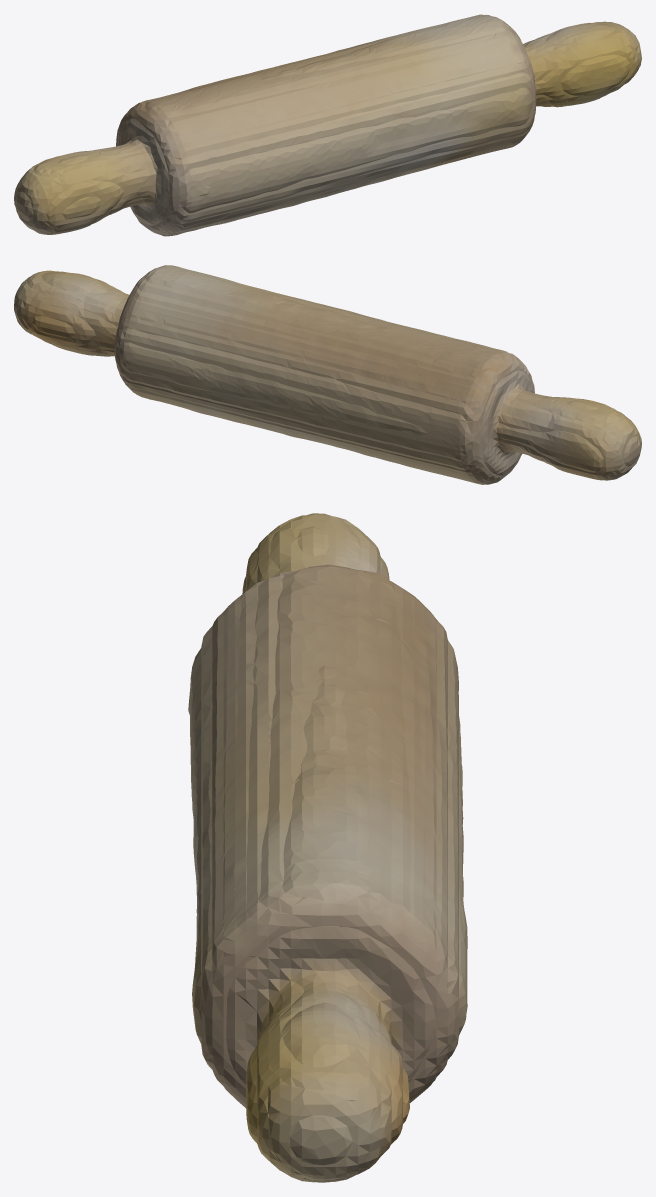
Rendered from rolling_pin_1.glb.
3 views of the same model, one above another, from view 1: azimuth 30°, elevation 25°; view 2: azimuth 150°, elevation 25°; view 3: azimuth 270°, elevation 25° (orthographic). The views are drawn at different scales.
Parts seen in each view (by area): view 1: geometry_0; view 2: geometry_0; view 3: geometry_0.
Part boxes in pixels (x1,y1,x2,y2): geometry_0: (14,14,641,236); geometry_0: (14,265,641,484); geometry_0: (188,513,467,1182).
Bounding box in the file's own units: 1 × 0.2034 × 0.1975.
